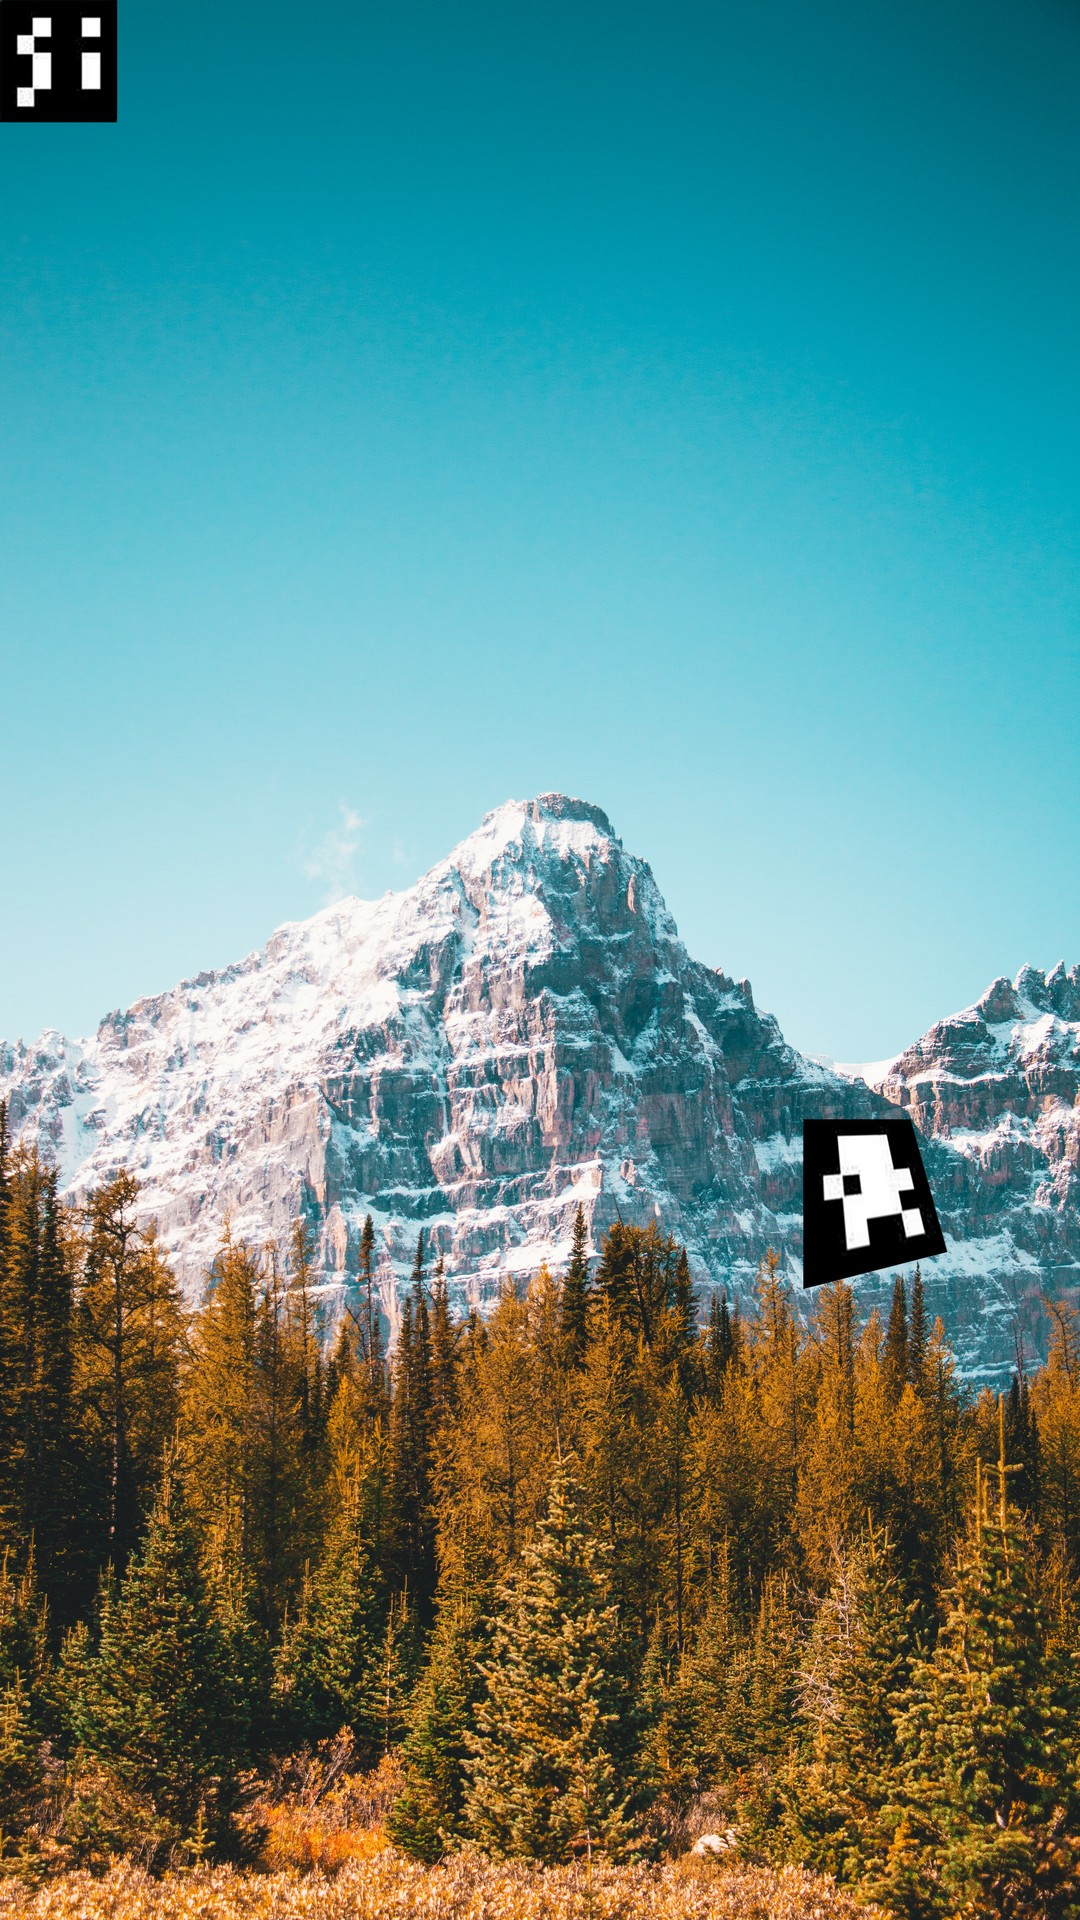marker: (794, 1112, 949, 1288), (1, 1, 123, 127)
